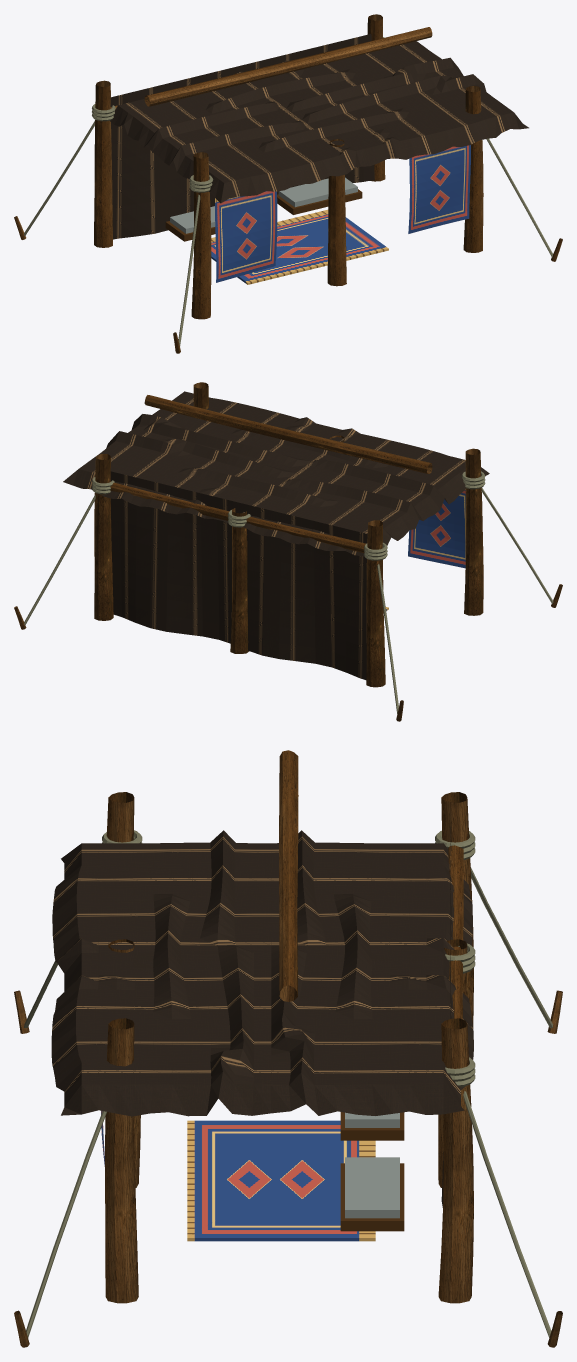
File: BLD_MainTent_cloth.glb
3 renders of one model, top to bottom at view 1: azimuth 30°, elevation 25°; view 2: azimuth 150°, elevation 25°; view 3: azimuth 270°, elevation 25°, orthographic. The views are drawn at different scales.
Parts seen in each view (by area): view 1: geometry_35, geometry_36, geometry_38, geometry_40, geometry_41, geometry_24, geometry_0, geometry_12, geometry_20, geometry_16, geometry_45, geometry_44 (+4 smaller); view 2: geometry_36, geometry_35, geometry_24, geometry_38, geometry_12, geometry_8, geometry_0, geometry_4, geometry_26, geometry_31, geometry_33; view 3: geometry_35, geometry_41, geometry_8, geometry_20, geometry_24, geometry_45, geometry_0, geometry_26, geometry_44, geometry_33, geometry_12, geometry_29 (+4 smaller).
Boxes of the visible parts, box(x1,y1,x2,y2) form: geometry_35: box(110, 41, 528, 203); geometry_36: box(110, 34, 374, 239); geometry_38: box(215, 191, 277, 282); geometry_40: box(408, 145, 470, 233); geometry_41: box(211, 209, 388, 284); geometry_24: box(144, 27, 432, 106); geometry_0: box(94, 80, 112, 247); geometry_12: box(191, 152, 211, 319); geometry_20: box(463, 85, 483, 252); geometry_16: box(327, 139, 346, 286); geometry_45: box(278, 177, 357, 207); geometry_44: box(277, 189, 362, 214); geometry_36: box(110, 471, 367, 679); geometry_35: box(63, 391, 489, 556); geometry_24: box(144, 395, 432, 473); geometry_38: box(408, 489, 465, 568); geometry_12: box(464, 448, 483, 615); geometry_8: box(94, 454, 113, 620); geometry_0: box(366, 520, 385, 687); geometry_4: box(230, 508, 249, 653); geometry_26: box(110, 481, 365, 552); geometry_31: box(377, 564, 398, 713); geometry_33: box(24, 495, 95, 625); geometry_35: box(51, 830, 473, 1116); geometry_41: box(187, 1120, 375, 1241); geometry_8: box(438, 1018, 473, 1303); geometry_20: box(105, 1018, 138, 1303); geometry_24: box(279, 750, 298, 1001); geometry_45: box(345, 1157, 399, 1218); geometry_0: box(441, 792, 473, 1028); geometry_26: box(448, 845, 463, 1019); geometry_44: box(340, 1163, 404, 1231); geometry_33: box(463, 1091, 551, 1337); geometry_12: box(106, 792, 134, 842); geometry_29: box(26, 1111, 106, 1337).
Bounding box in the file's own units: 5.29 × 2.46 × 3.79.
Materials: 5 (5 with a texture image).
